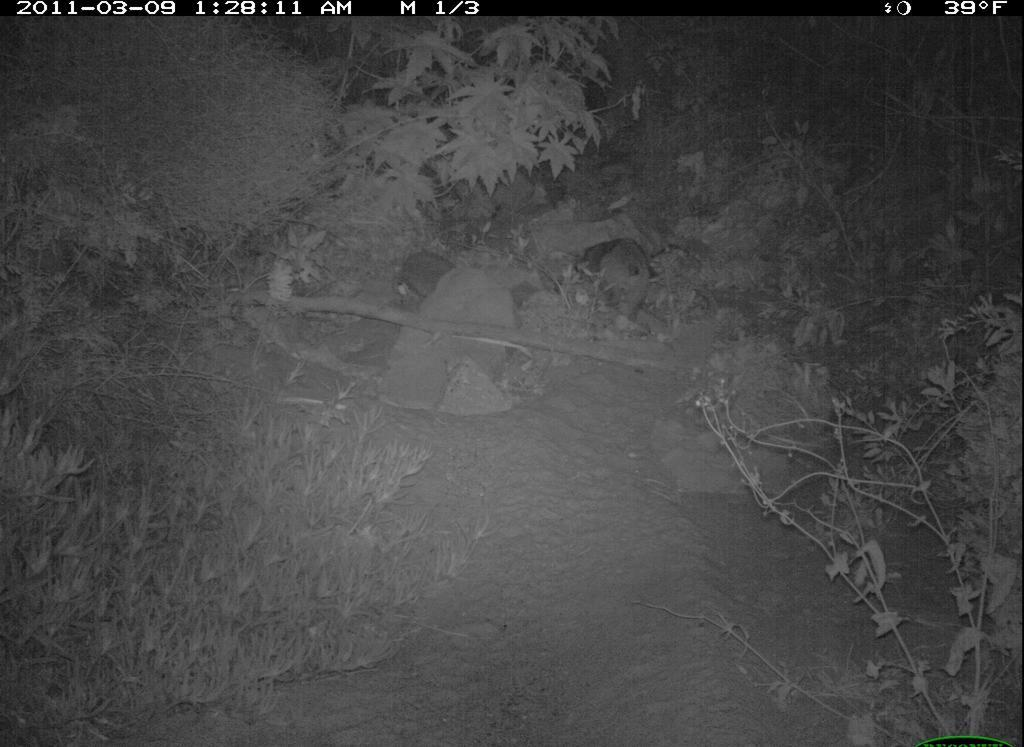raccoon: (583, 237, 660, 329)
